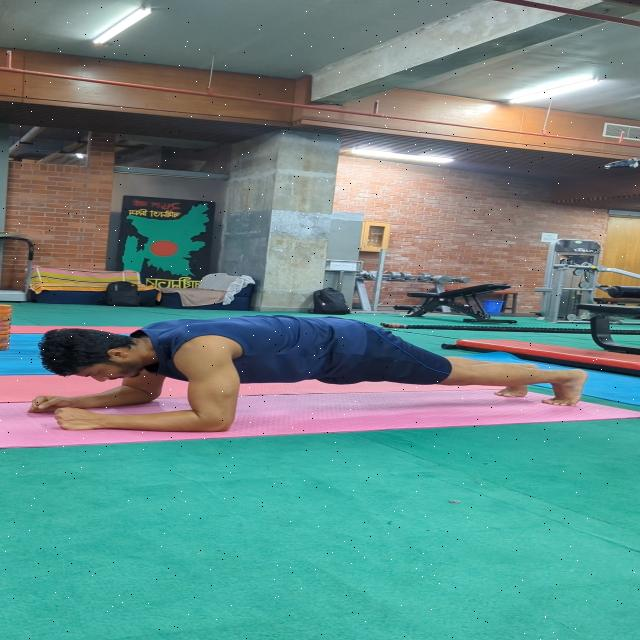Normal_Plunk: (0, 284, 607, 463)
